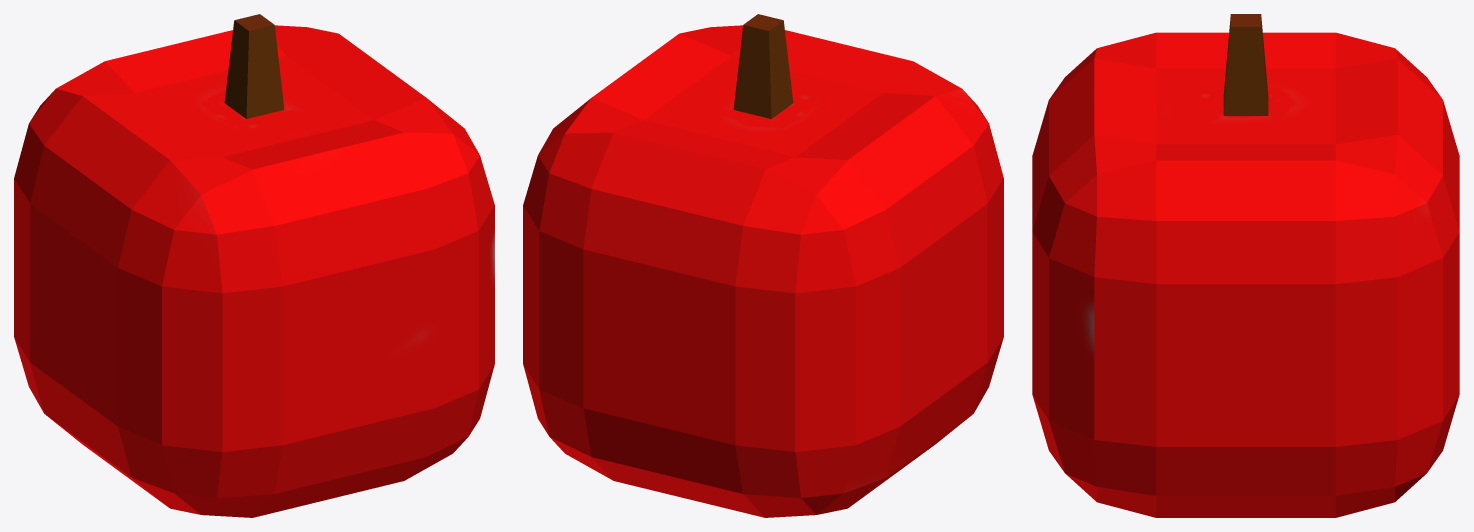
Rendered from Apple.fbx.
3 renders of one model, left to right at view 1: azimuth 30°, elevation 25°; view 2: azimuth 150°, elevation 25°; view 3: azimuth 270°, elevation 25°, orthographic. The views are drawn at different scales.
Parts seen in each view (by area): view 1: Mesh; view 2: Mesh; view 3: Mesh.
Part boxes in pixels (x1=…): Mesh: x1=14, y1=14, x2=494, y2=517; Mesh: x1=523, y1=14, x2=1003, y2=517; Mesh: x1=1032, y1=14, x2=1459, y2=517.
Bounding box in the file's own units: 200 × 232 × 200.
